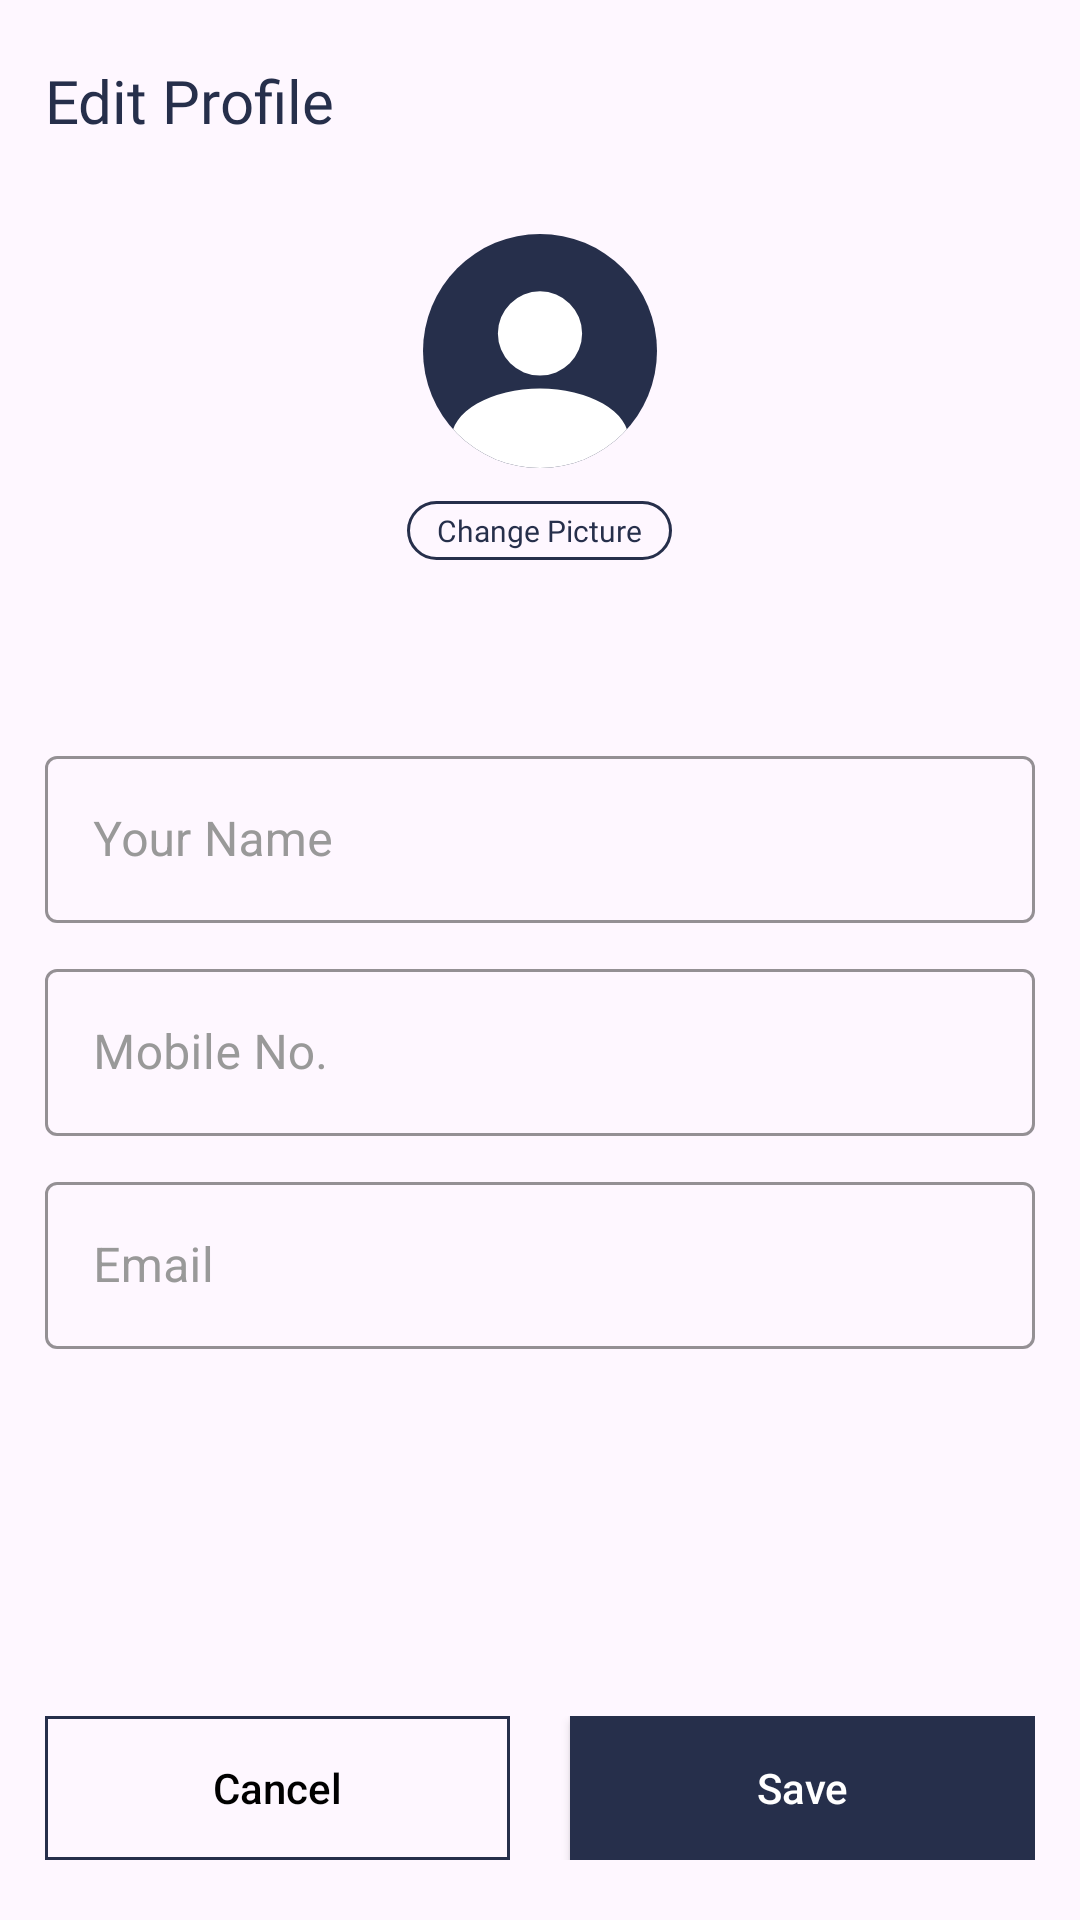

Where to tap for icons on this 1080 × 1920 app screen, as point (x, y):
profile pic: point (540, 351)
